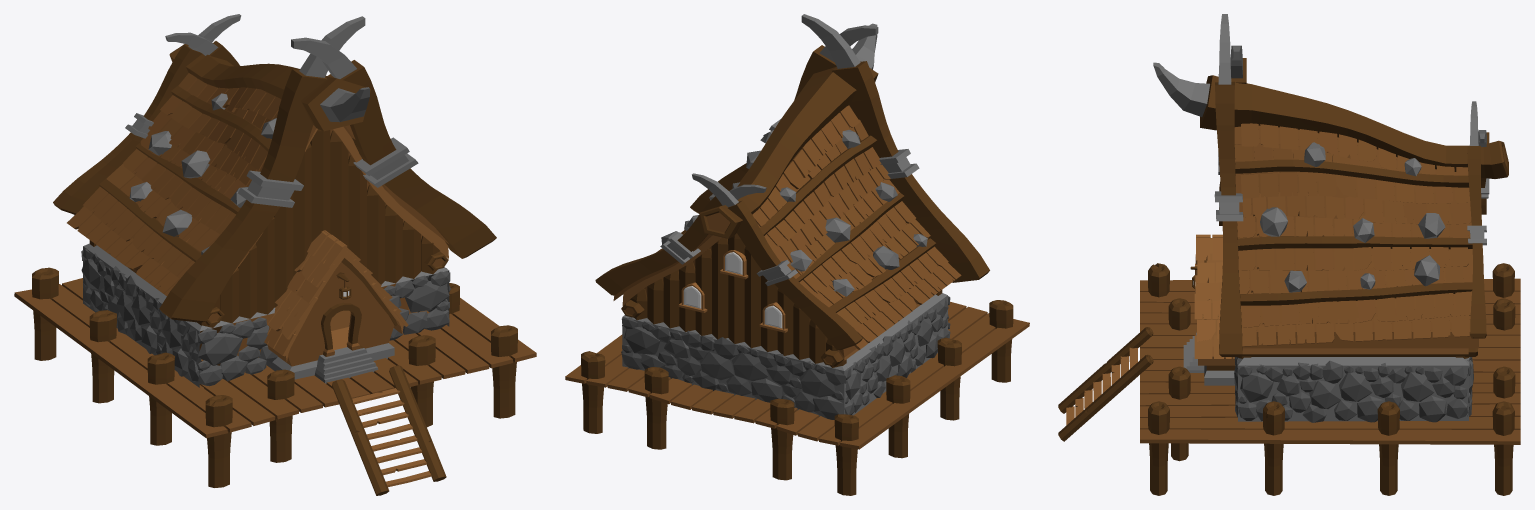
File: A_ChiefBase.fbx
The picture shows the model from 3 angles, left to right: view 1: azimuth 30°, elevation 25°; view 2: azimuth 150°, elevation 25°; view 3: azimuth 270°, elevation 25°; orthographic projection. The views are drawn at different scales.
Visible parts, largest first — view 1: A_ChiefBase; view 2: A_ChiefBase; view 3: A_ChiefBase.
Part boxes in pixels (x1,y1,x2,y2): A_ChiefBase: (14,14,536,495); A_ChiefBase: (565,14,1029,495); A_ChiefBase: (1058,14,1520,495).
Bounding box in the file's own units: 922 × 1060 × 1124.
